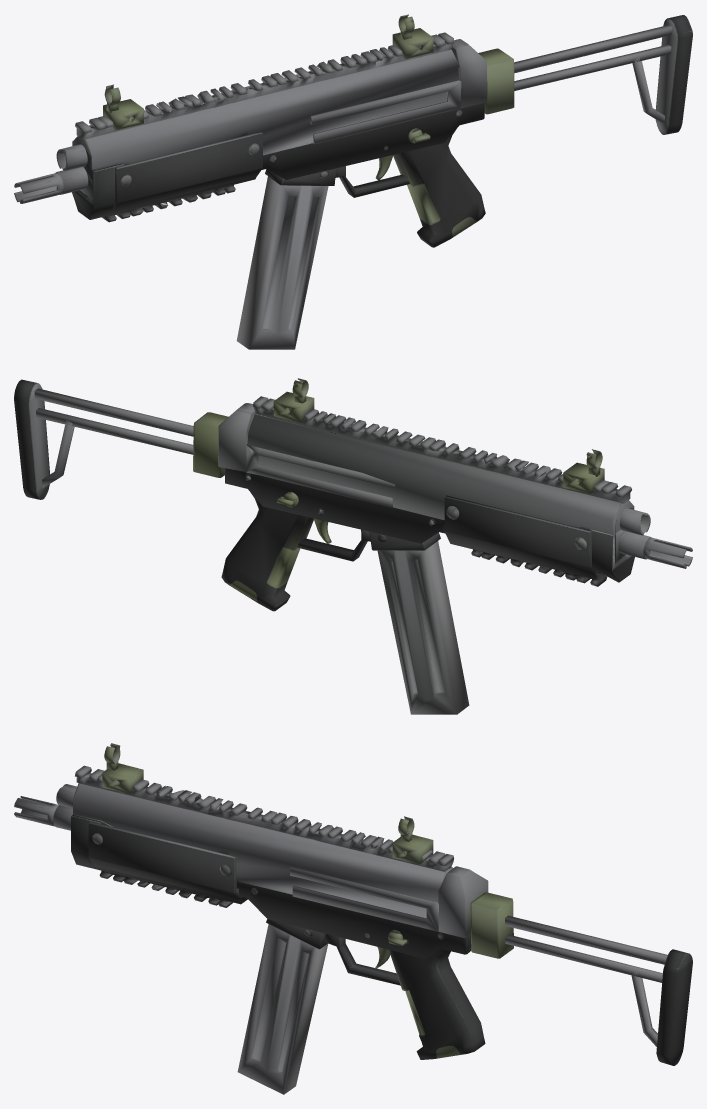
File: smg_wasp.glb
The picture shows the model from 3 angles, top to bottom: view 1: azimuth 30°, elevation 25°; view 2: azimuth 150°, elevation 25°; view 3: azimuth 330°, elevation 25°; orthographic projection.
Size of the model in its own units: 0.958 by 0.4141 by 0.0757.
Materials: 1 (1 with a texture image).
